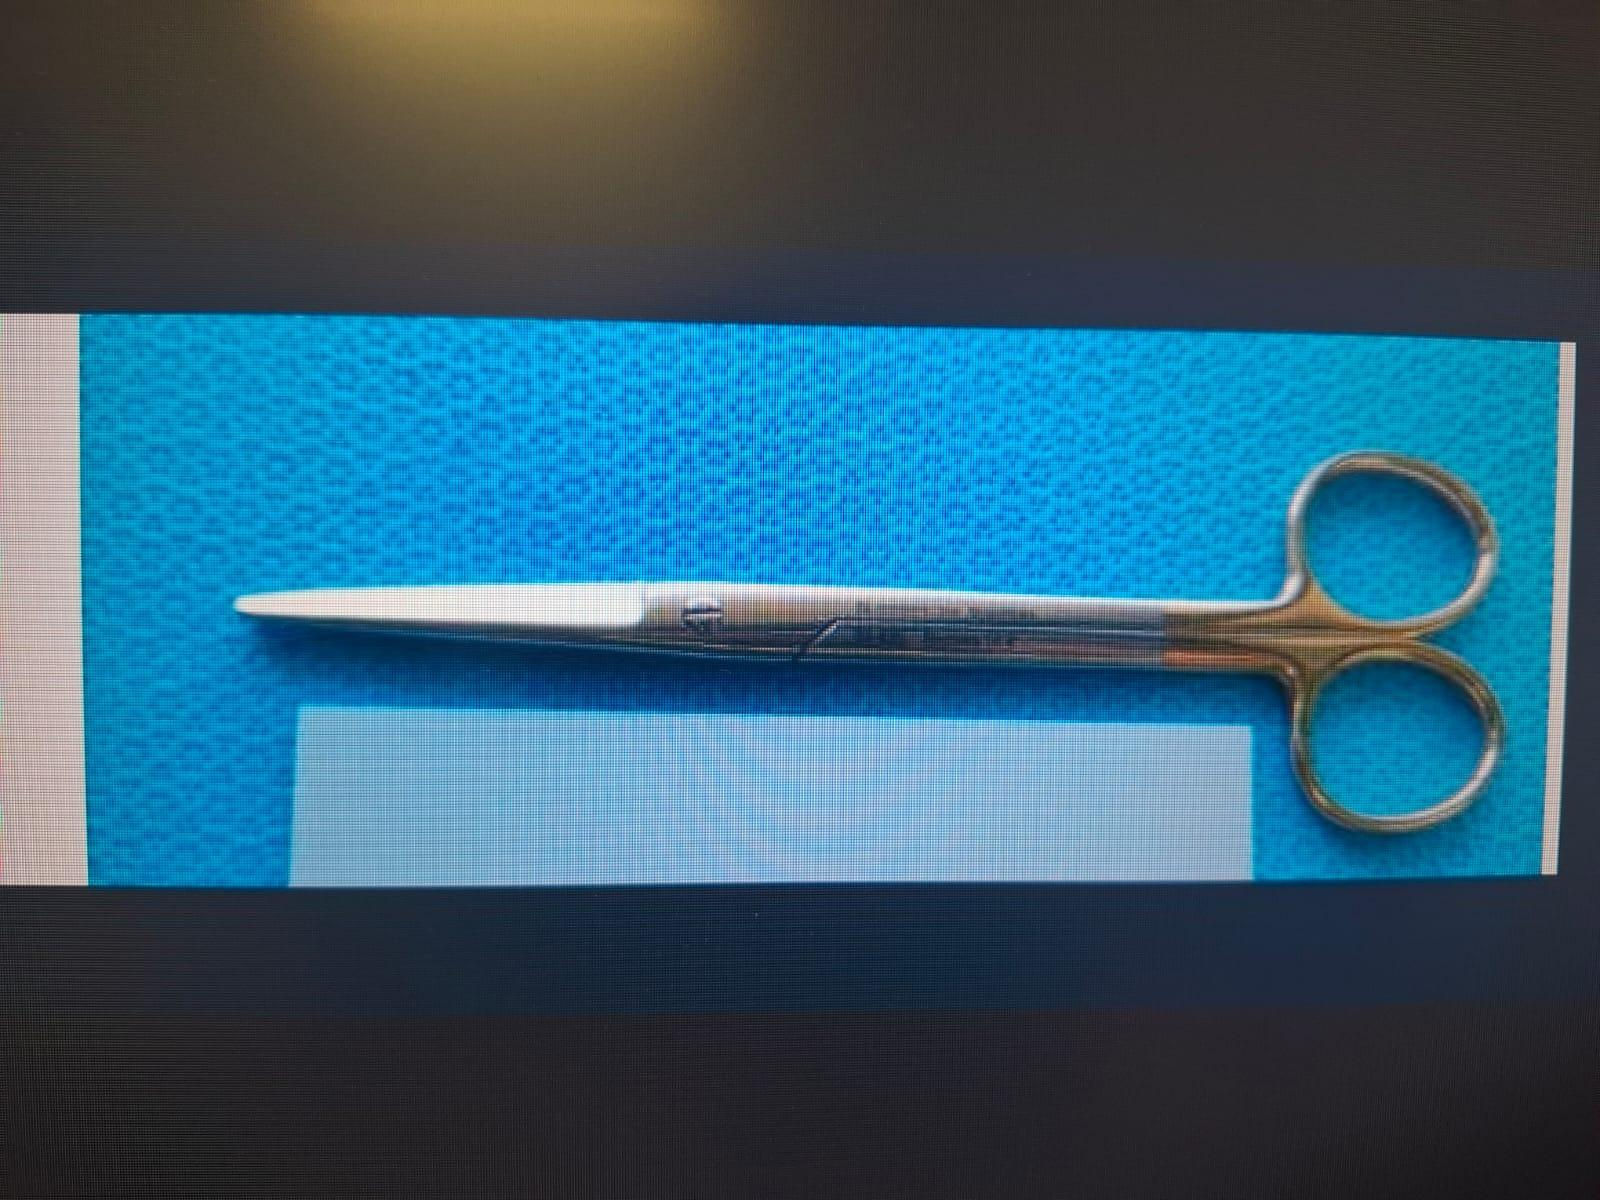Straight Mayo: (220, 432, 1506, 842)
